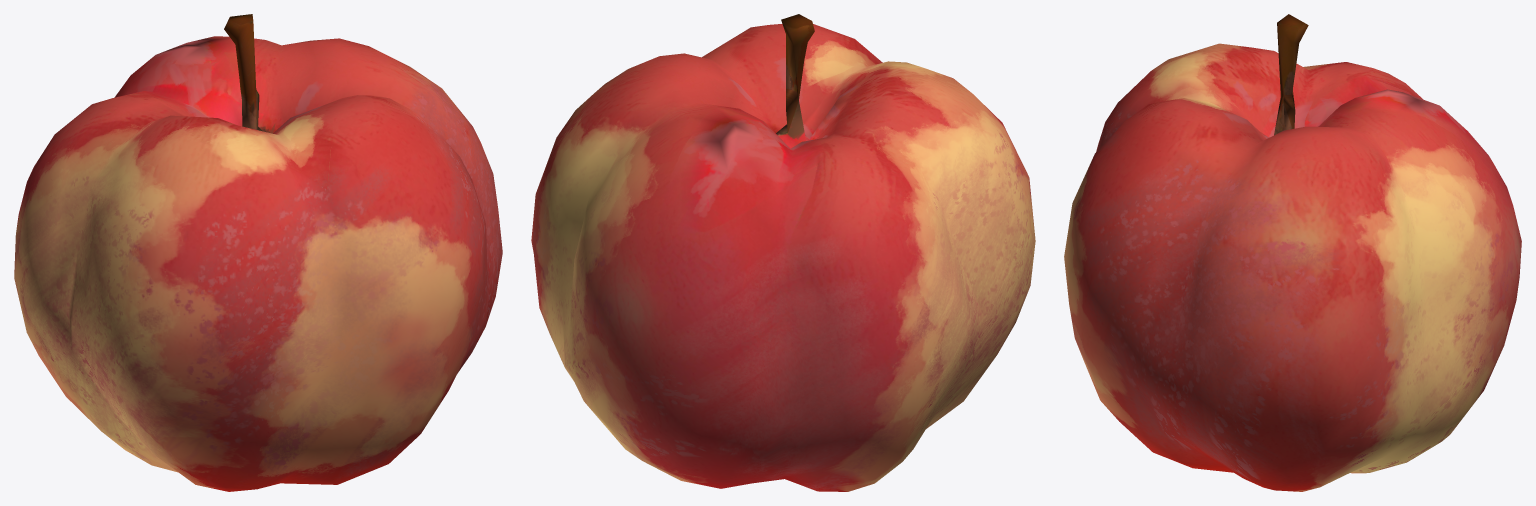
The model's file is Peach.fbx.
The picture shows the model from 3 angles, left to right: view 1: azimuth 30°, elevation 25°; view 2: azimuth 150°, elevation 25°; view 3: azimuth 270°, elevation 25°; orthographic projection. The views are drawn at different scales.
Visible parts, largest first — view 1: peach; view 2: peach; view 3: peach.
Part boxes in pixels (x1,y1,x2,y2): peach: (14,14,502,491); peach: (531,14,1035,491); peach: (1064,14,1521,491).
Size of the model in its own units: 7.08 by 7.13 by 6.83.
